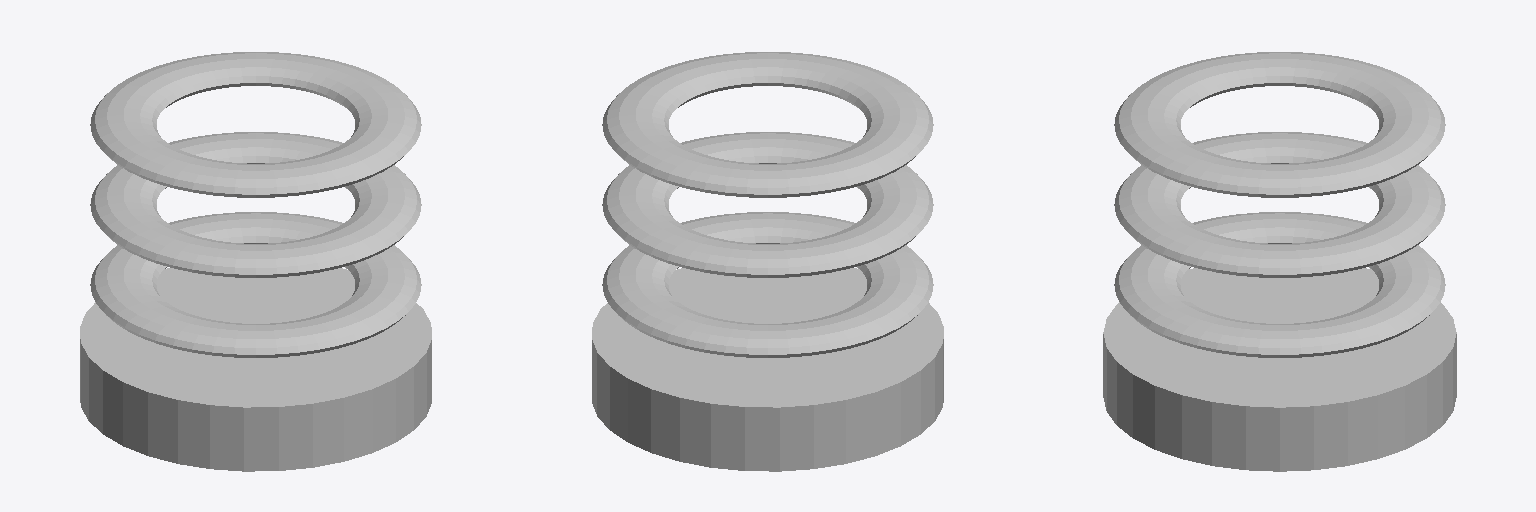
File: exit.obj
3 views of the same model, side by side, from view 1: azimuth 30°, elevation 25°; view 2: azimuth 150°, elevation 25°; view 3: azimuth 270°, elevation 25° (orthographic).
Visible parts, largest first — view 1: Cylinder, Torus.002, Torus, Torus.001; view 2: Cylinder, Torus.002, Torus, Torus.001; view 3: Cylinder, Torus.002, Torus, Torus.001.
Part boxes in pixels (bbox=[...]): Cylinder: bbox=[80, 268, 431, 471]; Torus.002: bbox=[90, 52, 421, 197]; Torus: bbox=[90, 212, 421, 357]; Torus.001: bbox=[90, 132, 421, 277]; Cylinder: bbox=[592, 268, 943, 471]; Torus.002: bbox=[602, 52, 933, 197]; Torus: bbox=[602, 212, 933, 357]; Torus.001: bbox=[602, 132, 933, 277]; Cylinder: bbox=[1103, 268, 1456, 471]; Torus.002: bbox=[1114, 52, 1445, 197]; Torus: bbox=[1114, 212, 1445, 357]; Torus.001: bbox=[1114, 132, 1445, 277].
Bounding box in the file's own units: 2 × 1.76 × 2.